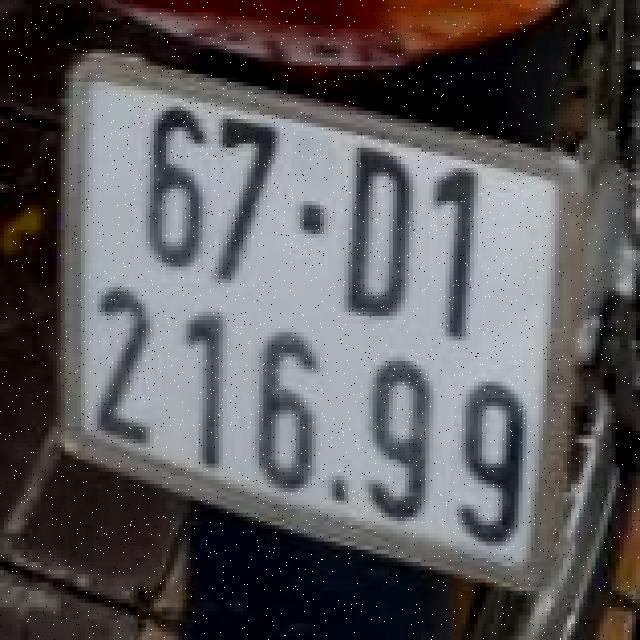1: (432, 154, 501, 342), (172, 293, 233, 486)
2: (65, 252, 162, 453)
6: (245, 312, 326, 513), (136, 103, 208, 279)
7: (210, 103, 296, 291)
9: (443, 357, 532, 558), (342, 332, 428, 525)
D: (332, 138, 417, 334)
